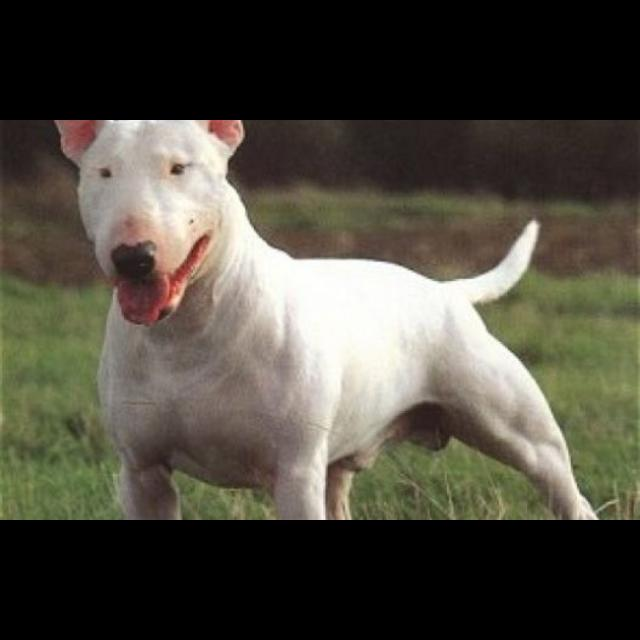bullterrier: (52, 122, 611, 521)
